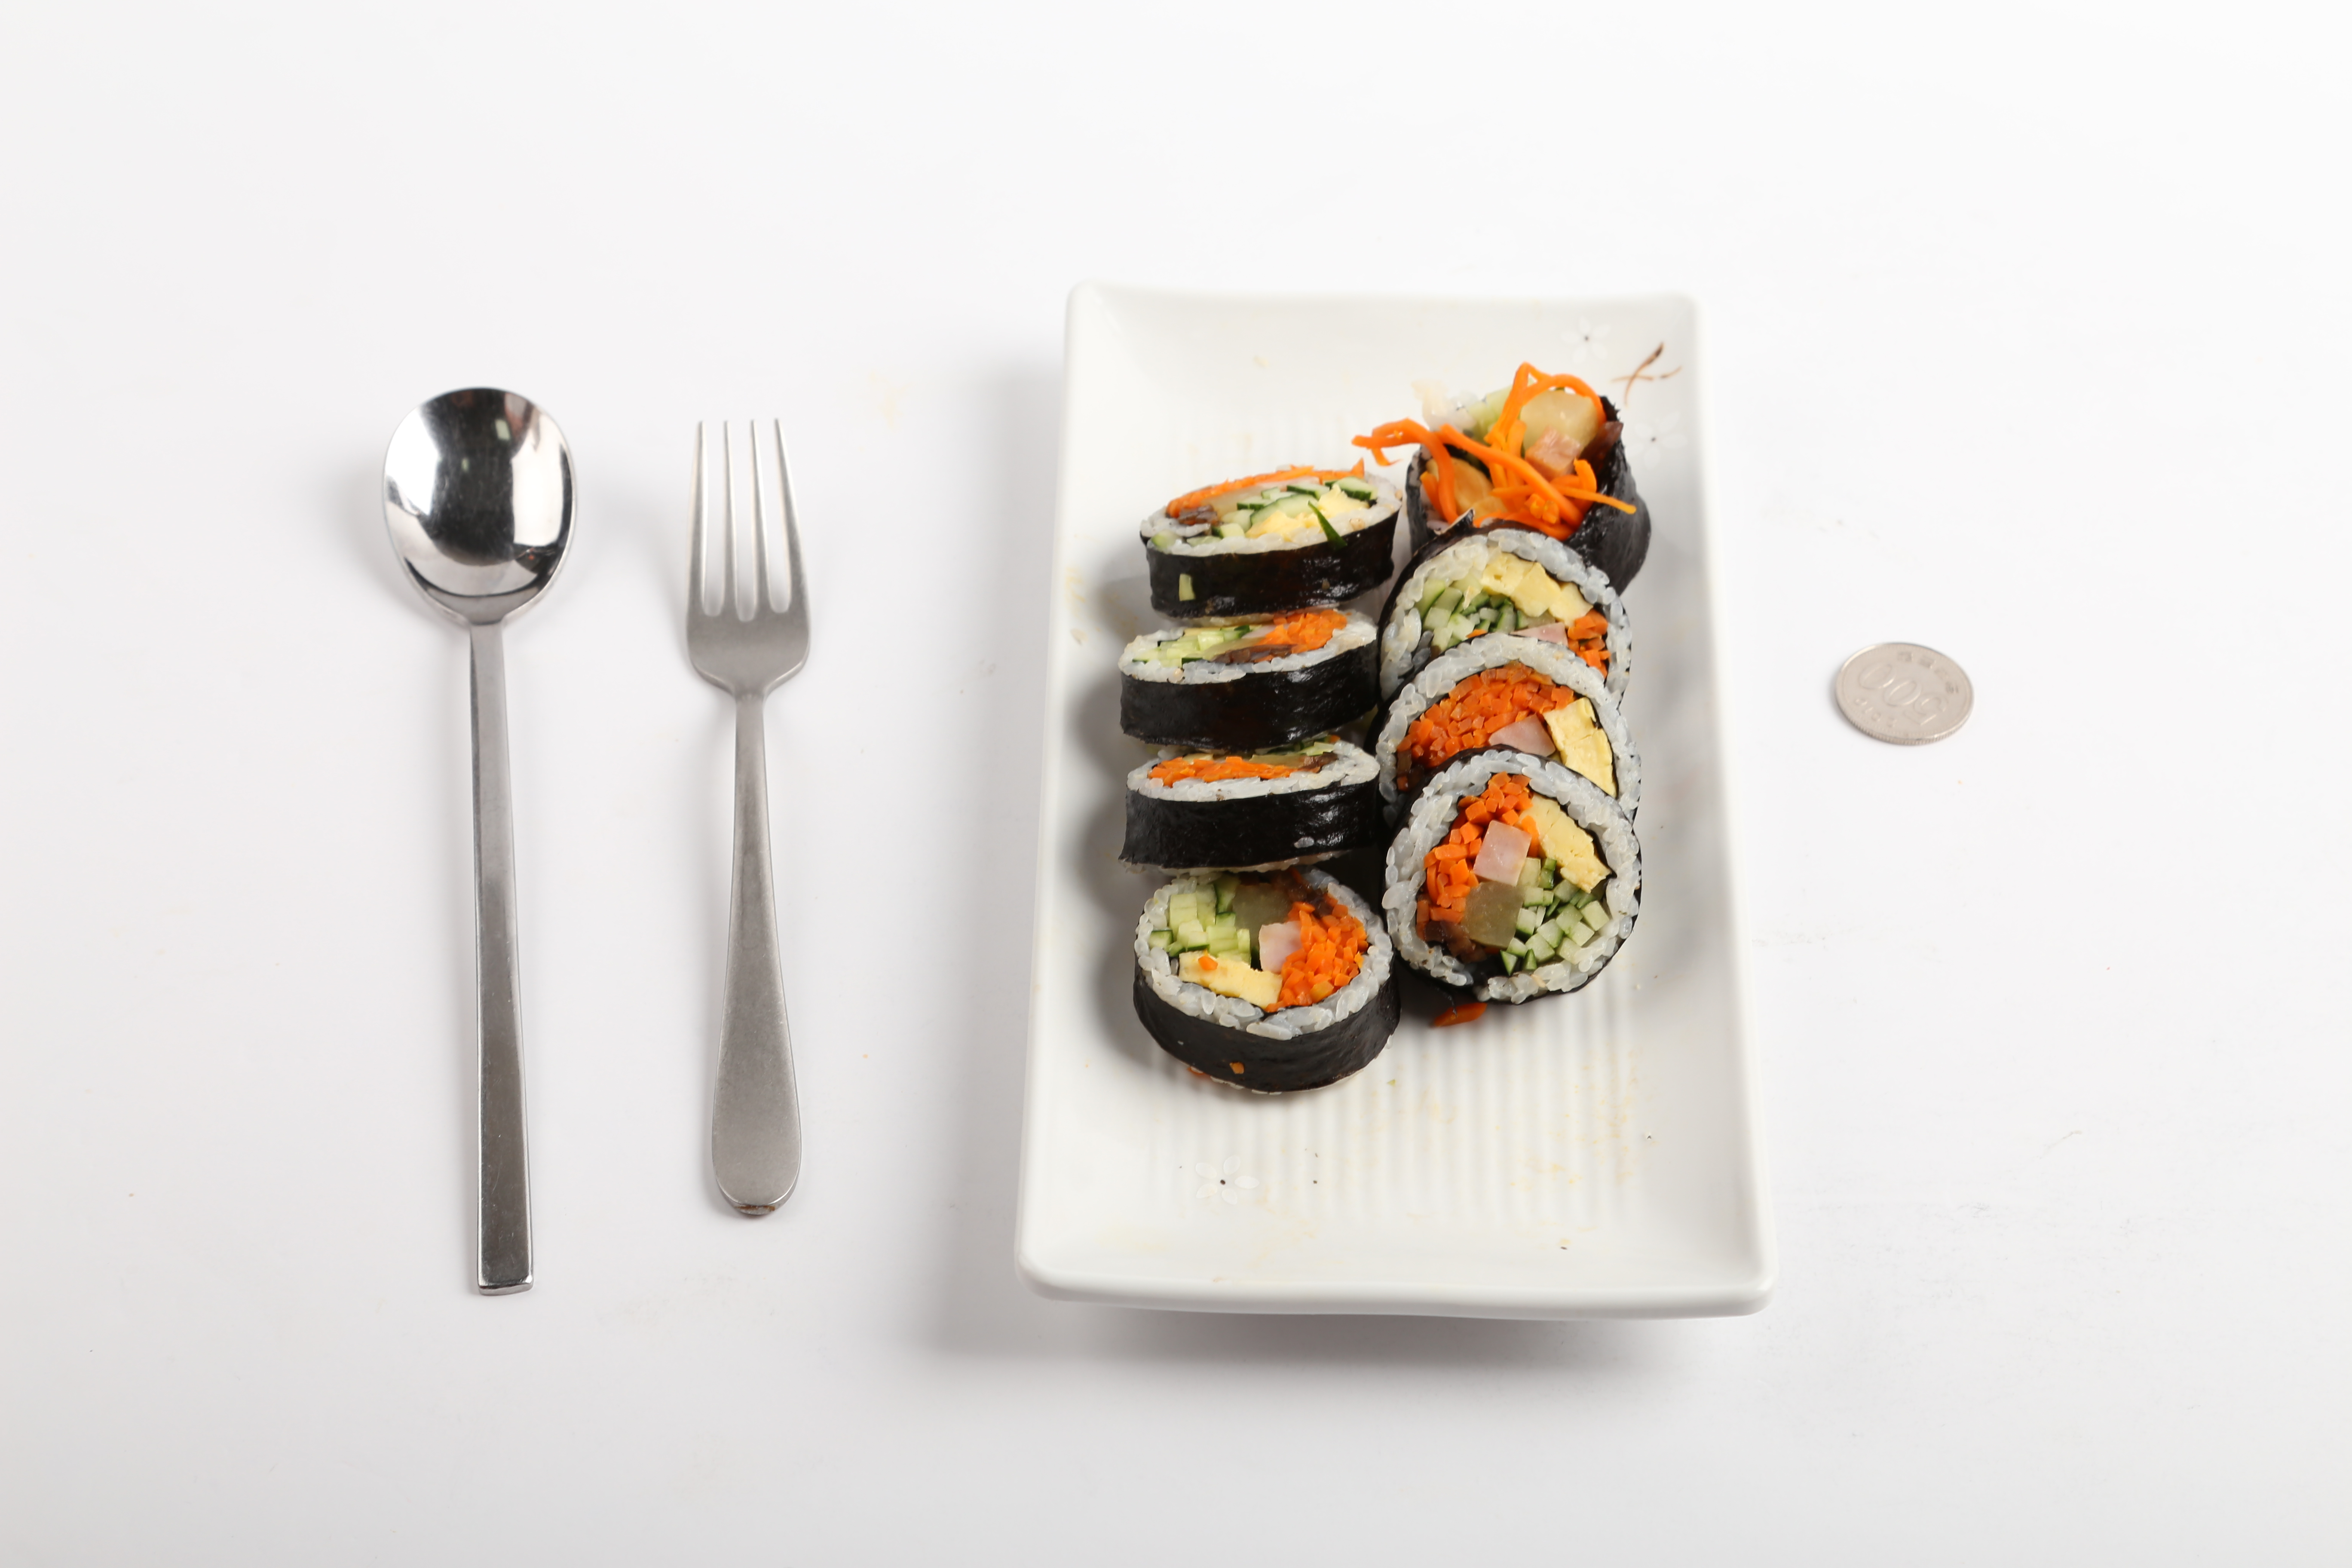dish: (1006, 275, 1774, 1323)
ref_coin: (1820, 625, 1974, 752)
ref_fork: (677, 406, 815, 759)
ref_spoon: (374, 378, 577, 682)
김밥: (1109, 359, 1659, 1104)
